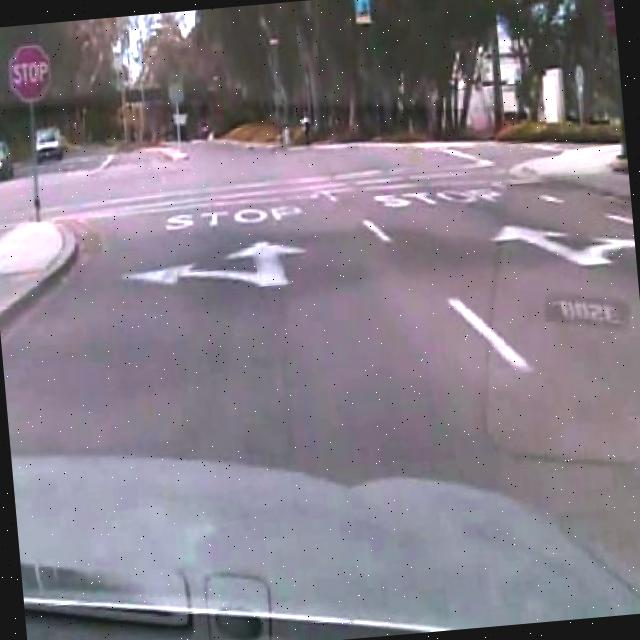Stop: (4, 42, 54, 106)
